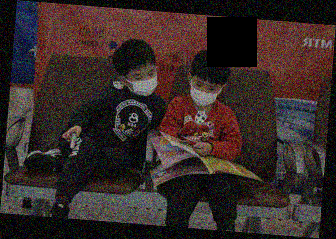with_mask: (189, 78, 220, 108), (127, 66, 158, 96)
